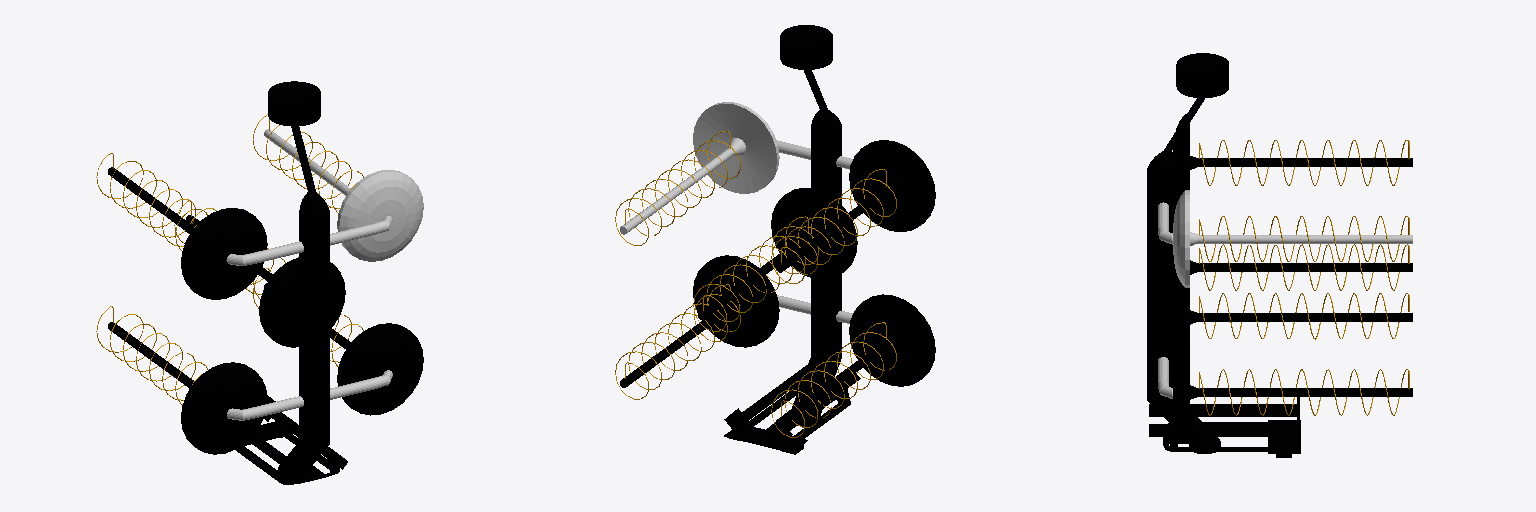
The model's file is tacsat_antenna_uv.obj.
3 views of the same model, side by side, from view 1: azimuth 30°, elevation 25°; view 2: azimuth 150°, elevation 25°; view 3: azimuth 270°, elevation 25° (orthographic).
Visible parts, largest first — view 1: Cylinder.006_Cylinder.014, Cylinder.001_Cylinder.010, Cylinder.003_Cylinder.017, Cylinder.011_Cylinder.001, Cylinder.004_Cylinder.016, Cylinder.005_Cylinder.018, AntennaPlate_Cube.004, Cylinder.009_Cylinder.028, Cylinder.010_Cylinder.026, Cylinder.008_Cylinder.023, Cylinder.007_Cylinder.027, Cube.001_Cube.003 (+4 smaller); view 2: Cylinder.006_Cylinder.014, Cylinder.003_Cylinder.017, Cylinder.001_Cylinder.010, Cylinder.011_Cylinder.001, Cylinder.004_Cylinder.016, Cylinder.005_Cylinder.018, AntennaPlate_Cube.004, Cube_Cube.001, Cube.001_Cube.003, CoilTR_Circle.010, CoilBR_Circle.011, CoilTL_Circle.006 (+2 smaller); view 3: Cylinder.006_Cylinder.014, Cylinder.011_Cylinder.001, Cylinder.004_Cylinder.016, Cylinder.001_Cylinder.010, Cylinder.005_Cylinder.018, Cylinder.003_Cylinder.017, Cube_Cube.001, AntennaPlate_Cube.004, Cube.001_Cube.003, CoilBR_Circle.011, CoilTL_Circle.006, CoilBL_Circle.005 (+2 smaller).
Boxes of the visible parts, <box> form: Cylinder.006_Cylinder.014: <box>268,81,329,480</box>; Cylinder.001_Cylinder.010: <box>108,167,267,299</box>; Cylinder.003_Cylinder.017: <box>108,322,267,454</box>; Cylinder.011_Cylinder.001: <box>264,129,423,261</box>; Cylinder.004_Cylinder.016: <box>264,283,423,415</box>; Cylinder.005_Cylinder.018: <box>186,215,345,347</box>; AntennaPlate_Cube.004: <box>236,421,339,484</box>; Cylinder.009_Cylinder.028: <box>227,396,303,420</box>; Cylinder.010_Cylinder.026: <box>226,241,303,265</box>; Cylinder.008_Cylinder.023: <box>330,370,392,399</box>; Cylinder.007_Cylinder.027: <box>330,216,392,245</box>; Cube.001_Cube.003: <box>248,434,306,479</box>; Cylinder.006_Cylinder.014: <box>780,25,841,426</box>; Cylinder.003_Cylinder.017: <box>776,294,935,426</box>; Cylinder.001_Cylinder.010: <box>776,140,935,272</box>; Cylinder.011_Cylinder.001: <box>620,102,779,234</box>; Cylinder.004_Cylinder.016: <box>620,255,779,387</box>; Cylinder.005_Cylinder.018: <box>698,188,857,319</box>; AntennaPlate_Cube.004: <box>724,383,850,454</box>; Cube_Cube.001: <box>724,365,807,435</box>; Cube.001_Cube.003: <box>766,373,860,445</box>; CoilTR_Circle.010: <box>771,169,896,283</box>; CoilBR_Circle.011: <box>771,322,896,437</box>; CoilTL_Circle.006: <box>615,131,740,245</box>; Cylinder.006_Cylinder.014: <box>1147,53,1228,453</box>; Cylinder.011_Cylinder.001: <box>1173,190,1412,287</box>; Cylinder.004_Cylinder.016: <box>1173,344,1412,440</box>; Cylinder.001_Cylinder.010: <box>1173,114,1412,199</box>; Cylinder.005_Cylinder.018: <box>1173,260,1412,315</box>; Cylinder.003_Cylinder.017: <box>1178,307,1412,352</box>; Cube_Cube.001: <box>1149,417,1299,443</box>; AntennaPlate_Cube.004: <box>1163,420,1300,457</box>; Cube.001_Cube.003: <box>1149,397,1299,416</box>; CoilBR_Circle.011: <box>1199,293,1409,339</box>; CoilTL_Circle.006: <box>1199,216,1409,261</box>; CoilBL_Circle.005: <box>1199,369,1409,415</box>.
Size of the model in its own units: 1.51 by 2.29 by 1.44.